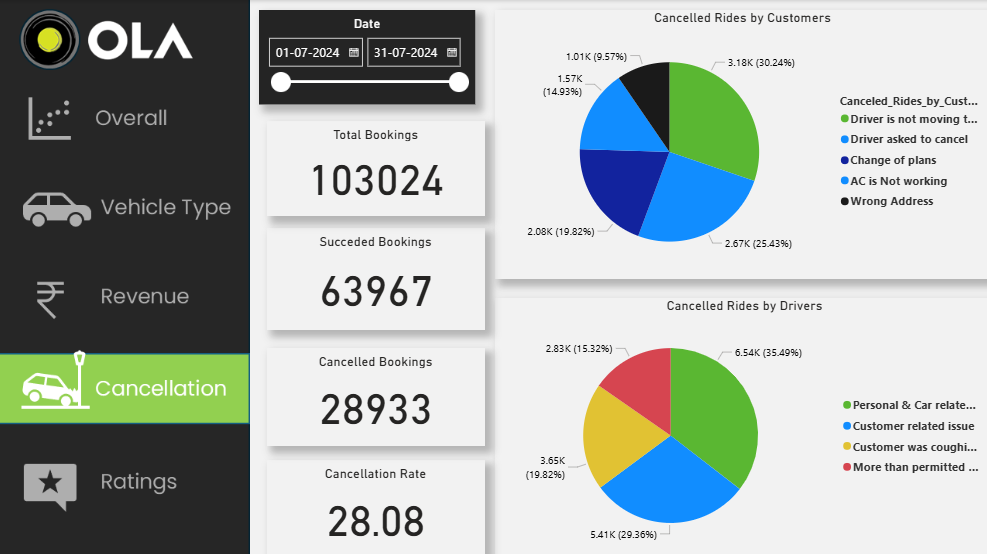

The dashboard page shown, as its layout file describes it:
{"tool":"powerbi","page":{"name":"Cancellation","canvas":[1280,720],"ordinal":3},"visuals":[{"type":"actionButton","box":[0,221.1,324.6,93.5],"z":0},{"type":"actionButton","box":[0,337.3,324.6,93.5],"z":1000},{"type":"actionButton","box":[0,574,324.6,93.5],"z":2000},{"type":"actionButton","box":[0,104.9,324.6,93.5],"z":3000},{"type":"pieChart","title":"Cancelled Rides by Customers","fields":{"Category":["Bookings.Canceled_Rides_by_Customer"],"Y":["CountNonNull(Bookings.Canceled_Rides_by_Customer)"]},"box":[640.6,12.8,639.2,347.2],"z":4000},{"type":"pieChart","title":"Cancelled Rides by Drivers","fields":{"Category":["Bookings.Canceled_Rides_by_Driver"],"Y":["CountNonNull(Bookings.Canceled_Rides_by_Driver)"]},"box":[640.6,384.1,639.2,335.9],"z":5000},{"type":"slicer","title":"Date","fields":{"Values":["Bookings.Date"]},"box":[335.9,12.8,279.2,121.9],"z":6000},{"type":"card","title":"Total Bookings","fields":{"Values":["CountNonNull(Bookings.Booking_ID)"]},"box":[346,156.2,280.5,122.6],"z":7000},{"type":"card","title":"Succeded Bookings","fields":{"Values":["CountNonNull(Bookings.Booking_ID)"]},"box":[346,294,280.5,131],"z":8000},{"type":"card","title":"Cancelled Bookings","fields":{"Values":["CountNonNull(Bookings.Booking_ID)"]},"box":[346,448.5,280.5,126],"z":9000},{"type":"card","title":"Cancellation Rate","fields":{"Values":["Bookings.Cancellationpercentage"]},"box":[346,593,280.5,127.7],"z":10000}]}

Visuals, with their boxes on the page's 1280x720 design canvas (x1, y1, x2, y2). These are canvas units, not pixel positions in the 987x554 screenshot, which may show the page scaled, cropped or inside an application window:
actionButton: (x1=0, y1=221, x2=325, y2=315)
actionButton: (x1=0, y1=337, x2=325, y2=431)
actionButton: (x1=0, y1=574, x2=325, y2=668)
actionButton: (x1=0, y1=105, x2=325, y2=198)
"Cancelled Rides by Customers" pieChart: (x1=641, y1=13, x2=1280, y2=360)
"Cancelled Rides by Drivers" pieChart: (x1=641, y1=384, x2=1280, y2=720)
"Date" slicer: (x1=336, y1=13, x2=615, y2=135)
"Total Bookings" card: (x1=346, y1=156, x2=626, y2=279)
"Succeded Bookings" card: (x1=346, y1=294, x2=626, y2=425)
"Cancelled Bookings" card: (x1=346, y1=448, x2=626, y2=574)
"Cancellation Rate" card: (x1=346, y1=593, x2=626, y2=721)
